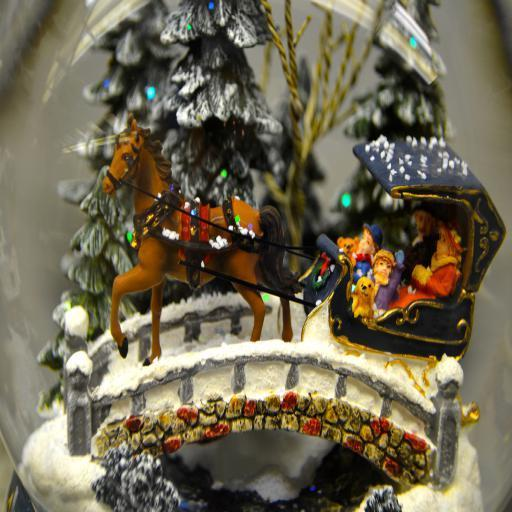horse: (100, 112, 307, 370)
